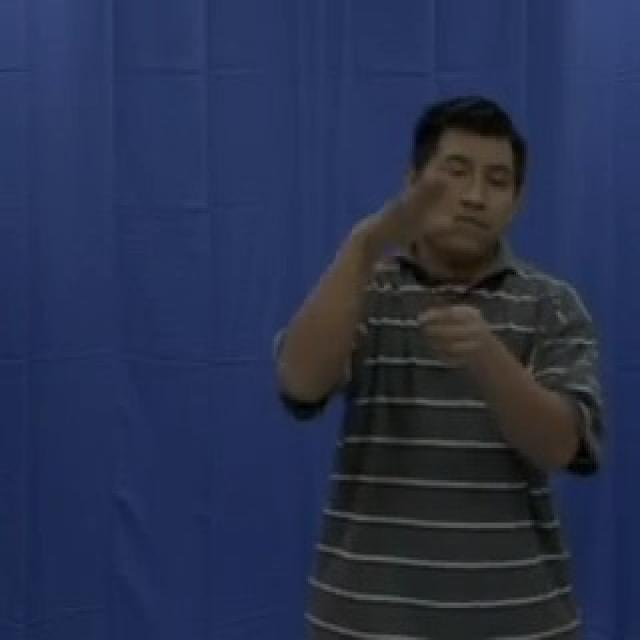coke: (347, 156, 517, 401)
